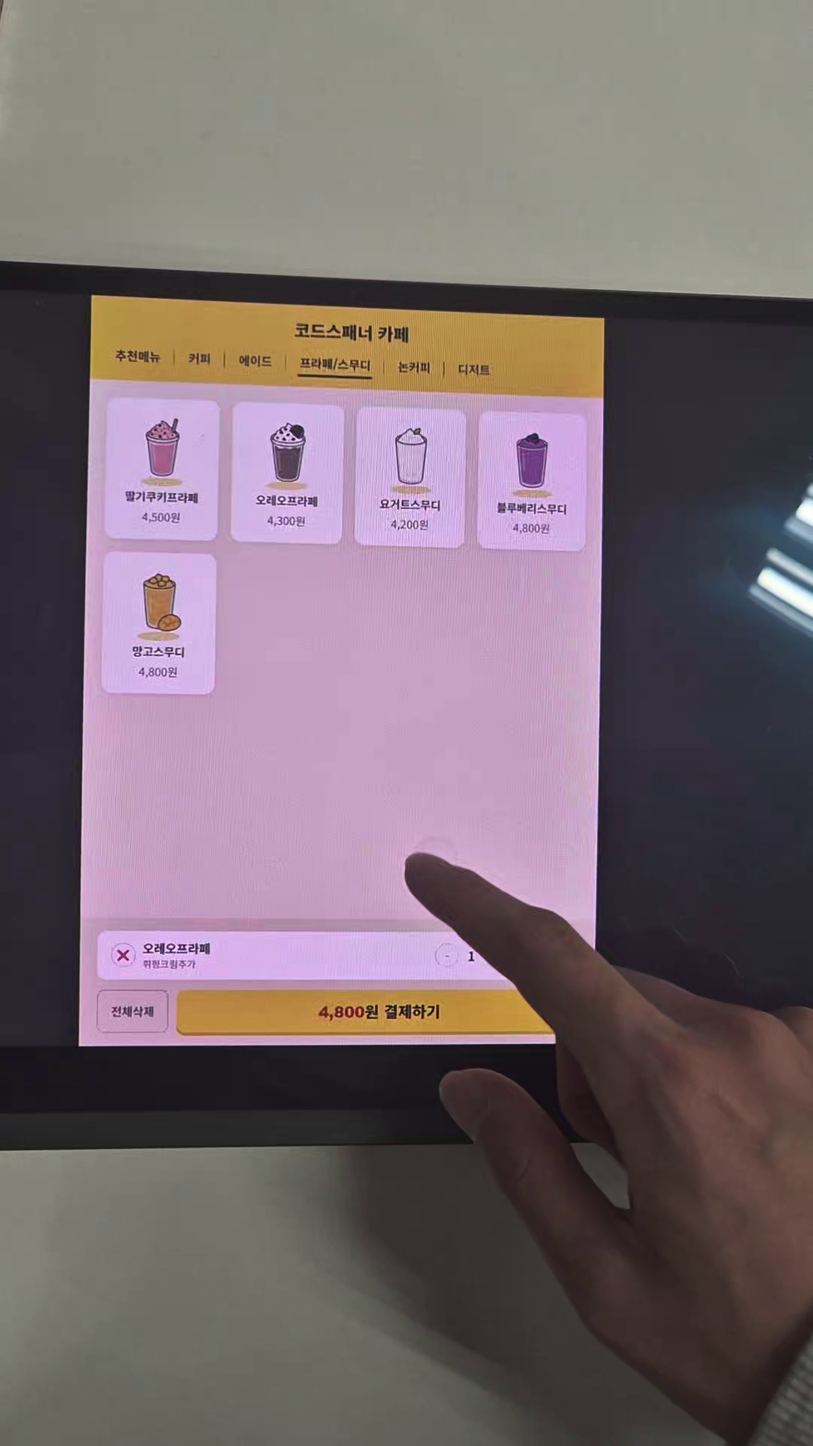action_button: (176, 989, 573, 1036), (97, 990, 168, 1033)
cart_item: (97, 930, 574, 981)
category_tab: (298, 355, 372, 373), (113, 347, 163, 365), (396, 359, 432, 377), (237, 353, 273, 368), (457, 362, 491, 377), (187, 351, 212, 367)
menu_back: (101, 551, 217, 694), (104, 398, 219, 540), (230, 402, 345, 544), (354, 407, 467, 548), (477, 411, 587, 552)
menu_name: (123, 489, 199, 506), (495, 500, 569, 517), (254, 492, 321, 509), (378, 497, 443, 513), (130, 644, 186, 660)
menu_price: (139, 510, 184, 527), (266, 514, 307, 529), (389, 518, 430, 532), (511, 522, 551, 536), (137, 666, 178, 679)
